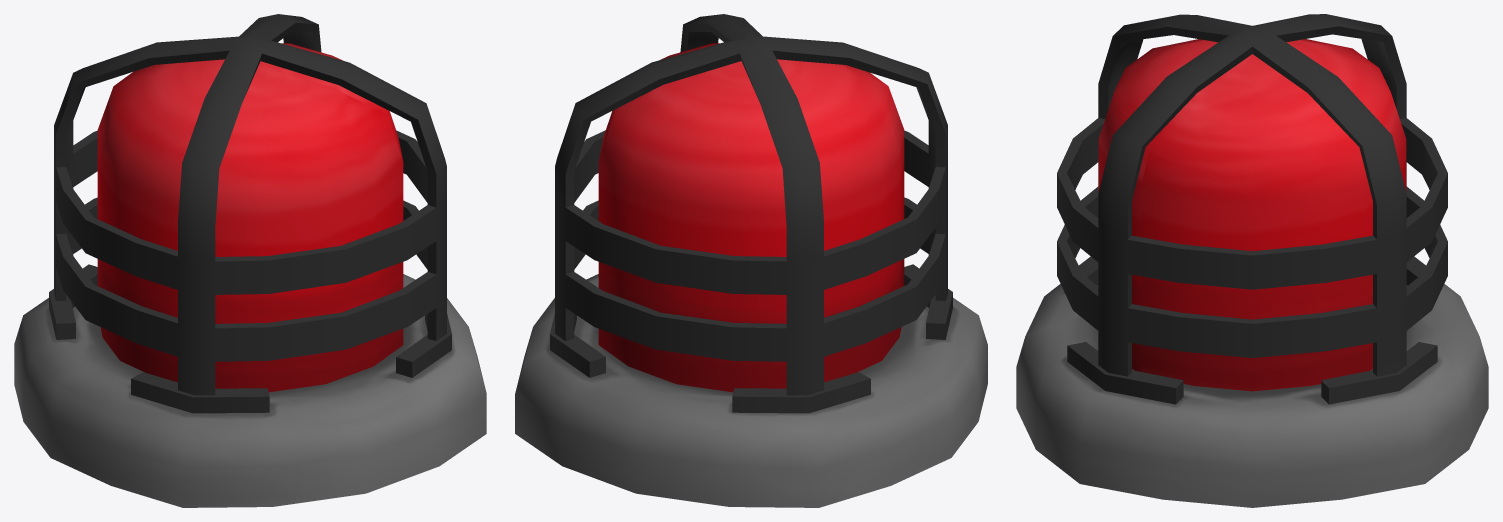
File: Alarm_Light.fbx
3 views of the same model, side by side, from view 1: azimuth 30°, elevation 25°; view 2: azimuth 150°, elevation 25°; view 3: azimuth 270°, elevation 25° (orthographic). The views are drawn at different scales.
Parts seen in each view (by area): view 1: Alarm_Light_FixedUV's; view 2: Alarm_Light_FixedUV's; view 3: Alarm_Light_FixedUV's.
Part boxes in pixels (bbox=[...]): Alarm_Light_FixedUV's: bbox=[14, 14, 486, 507]; Alarm_Light_FixedUV's: bbox=[515, 14, 987, 507]; Alarm_Light_FixedUV's: bbox=[1016, 14, 1488, 507].
Size of the model in its own units: 185 by 164 by 185.
Materials: 1 (1 with a texture image).
